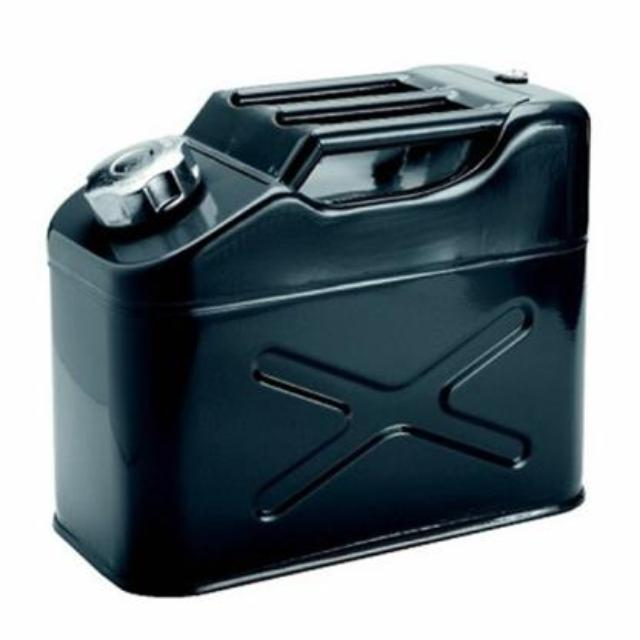chemical_plastic_gallon: (41, 56, 594, 610)
